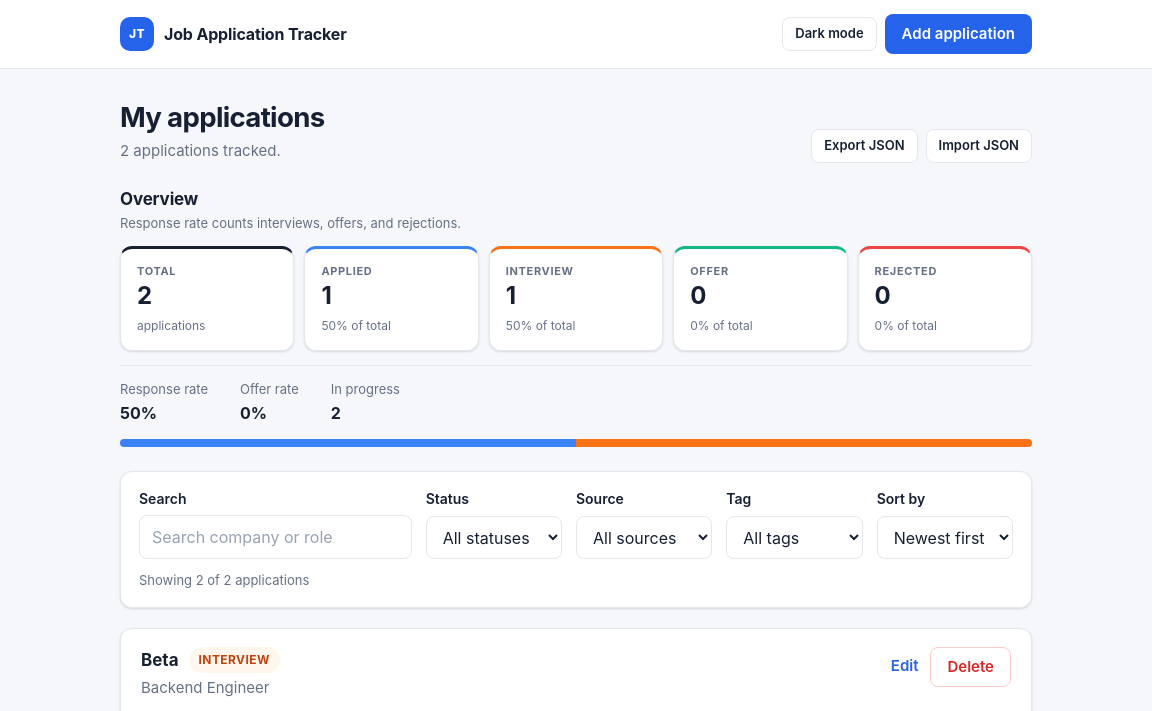
filters applications by search and status
The width and height of the screenshot is (1152, 711).
Expected: the heading "Beta" is shown, [141,648,179,671]
Type "beta" into the search field labelled "Search" at [275, 537], box [139,515,412,559]
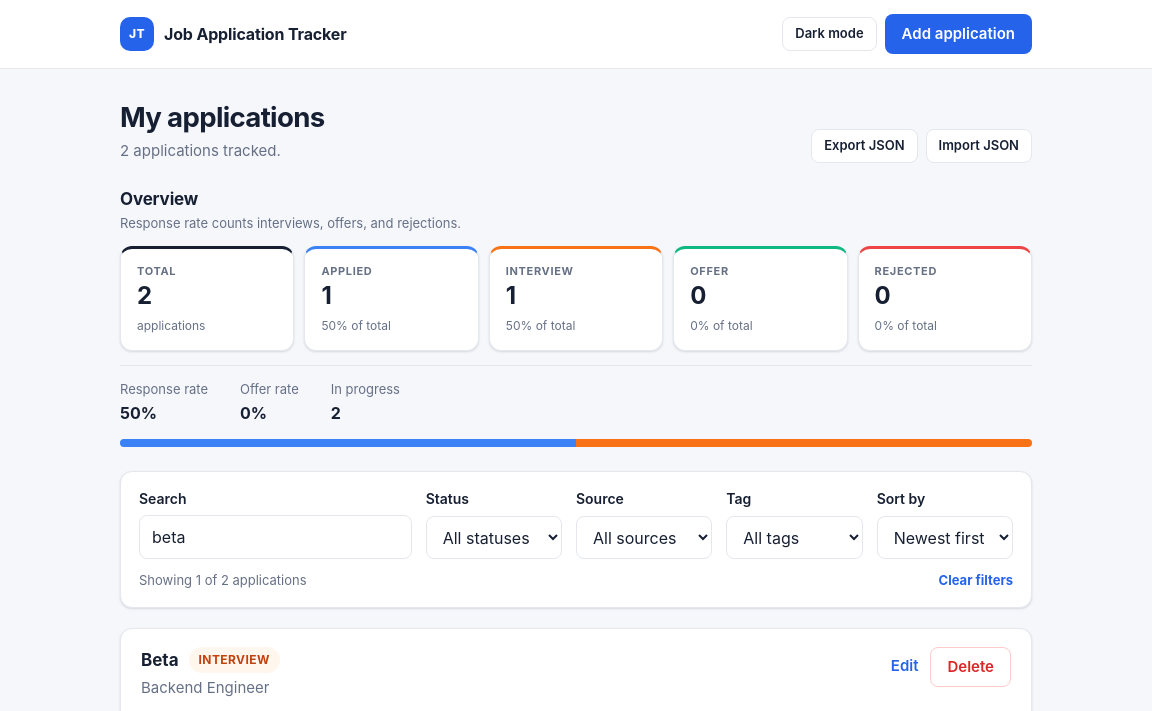
Expected: the heading "Beta" is shown, [141,648,179,671]
Expected: the heading "Alpha" is not shown
Clear the search field labelled "Search" at [275, 537], box [139,515,412,559]
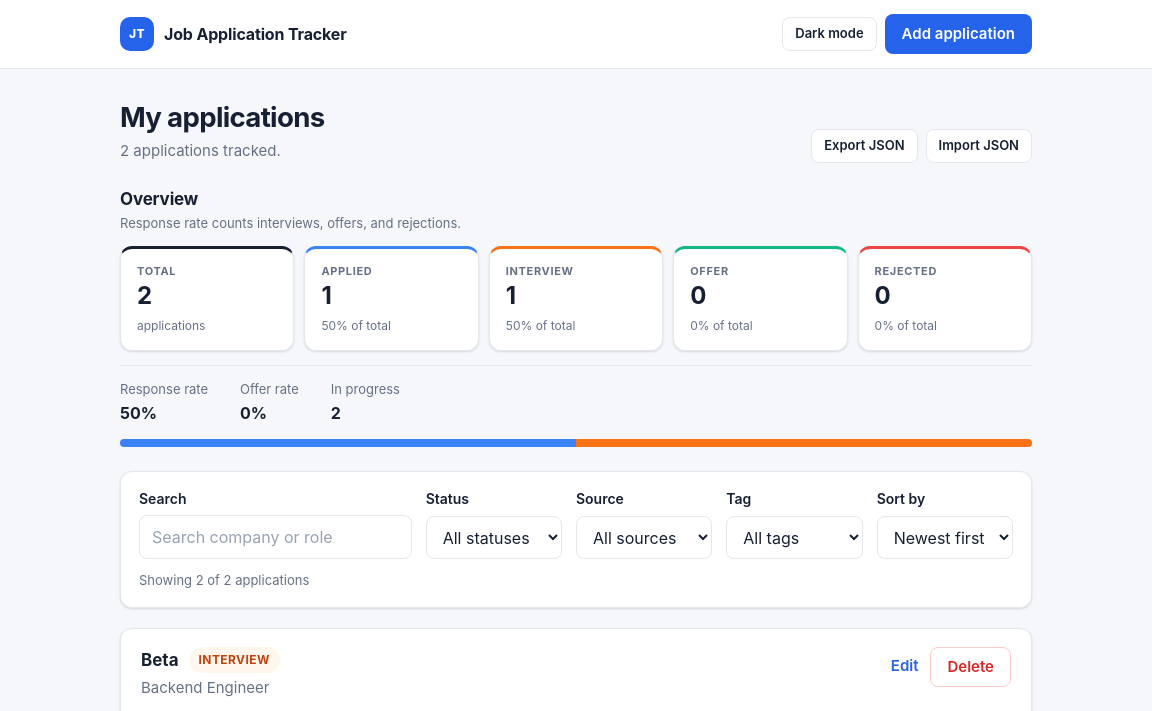
Select "Applied" in the dropdown labelled "Status" at [494, 538], box [426,516,562,559]
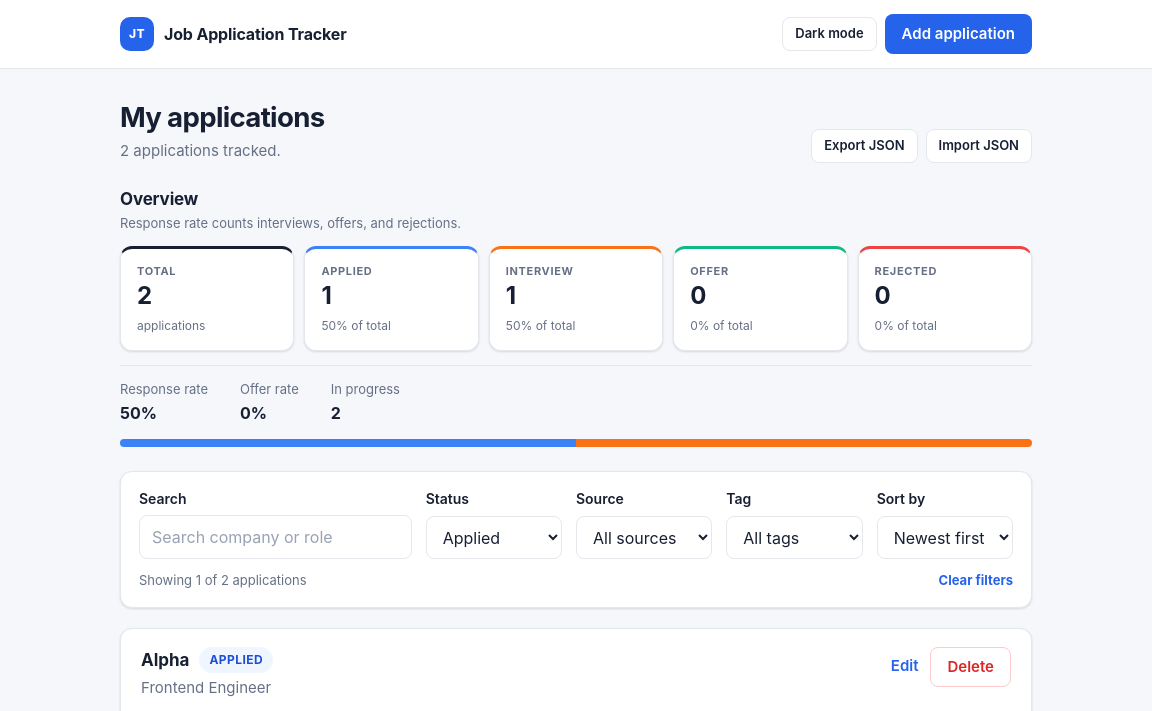
Expected: the heading "Alpha" is shown, [141,648,190,671]
Expected: the heading "Beta" is gone
Click the button "Clear filters" at [976, 581], box [939,571,1013,590]
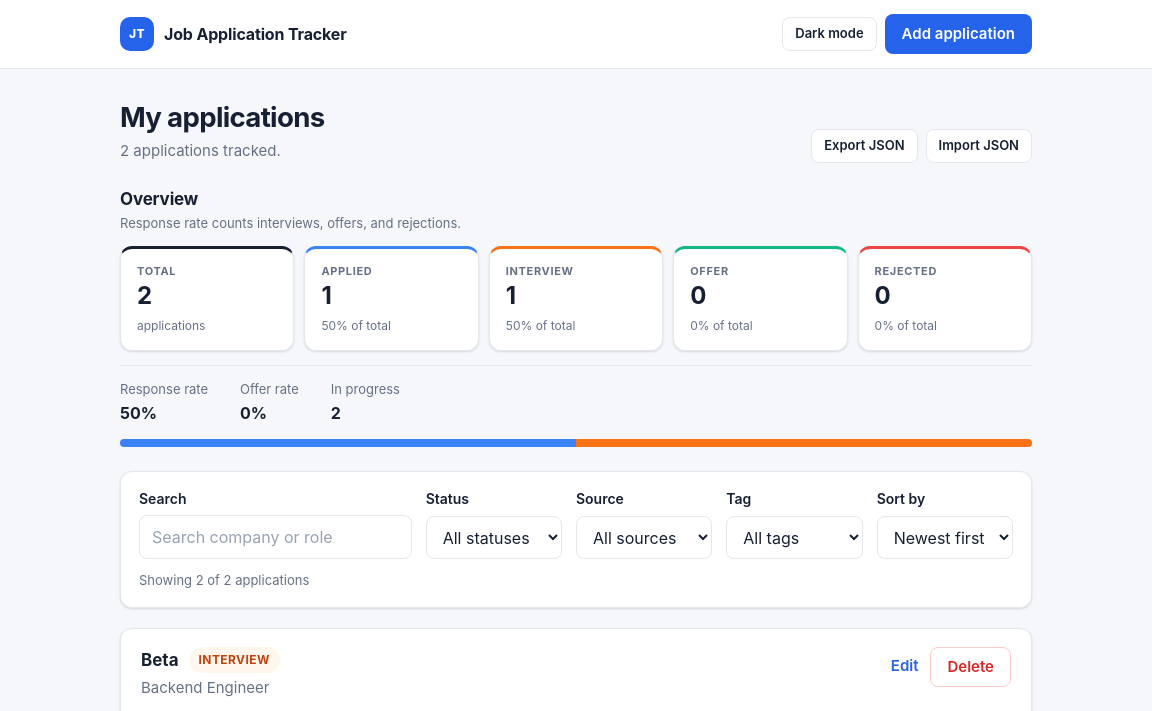
Expected: the heading "Beta" is shown, [141,648,179,671]
